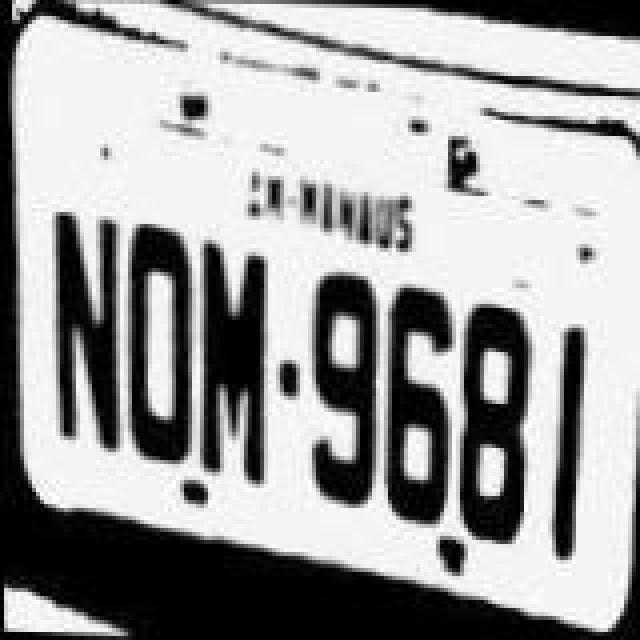1: (530, 308, 594, 564)
6: (370, 282, 450, 546)
8: (444, 298, 528, 558)
9: (296, 266, 376, 522)
M: (196, 228, 276, 492)
N: (38, 200, 126, 448)
O: (122, 216, 202, 468)
